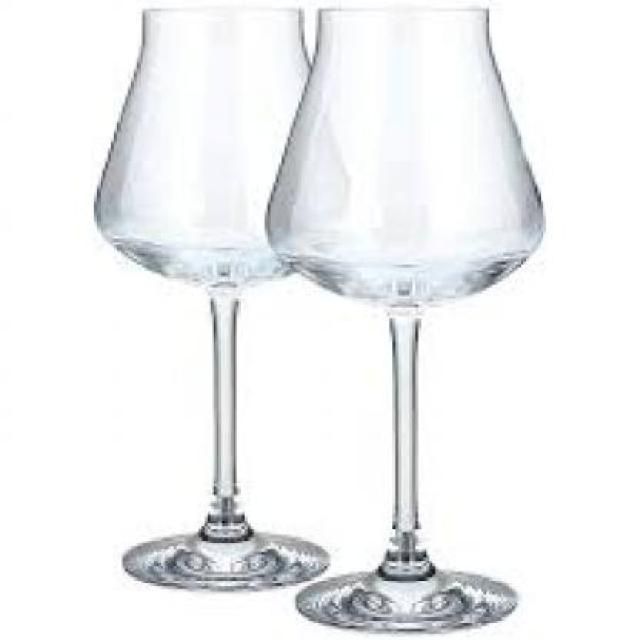kaca: (262, 3, 543, 629), (89, 10, 334, 592)
